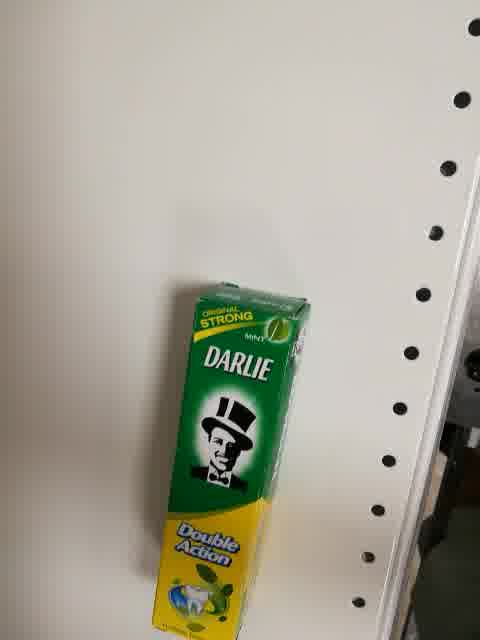toothpaste: (150, 282, 311, 640)
